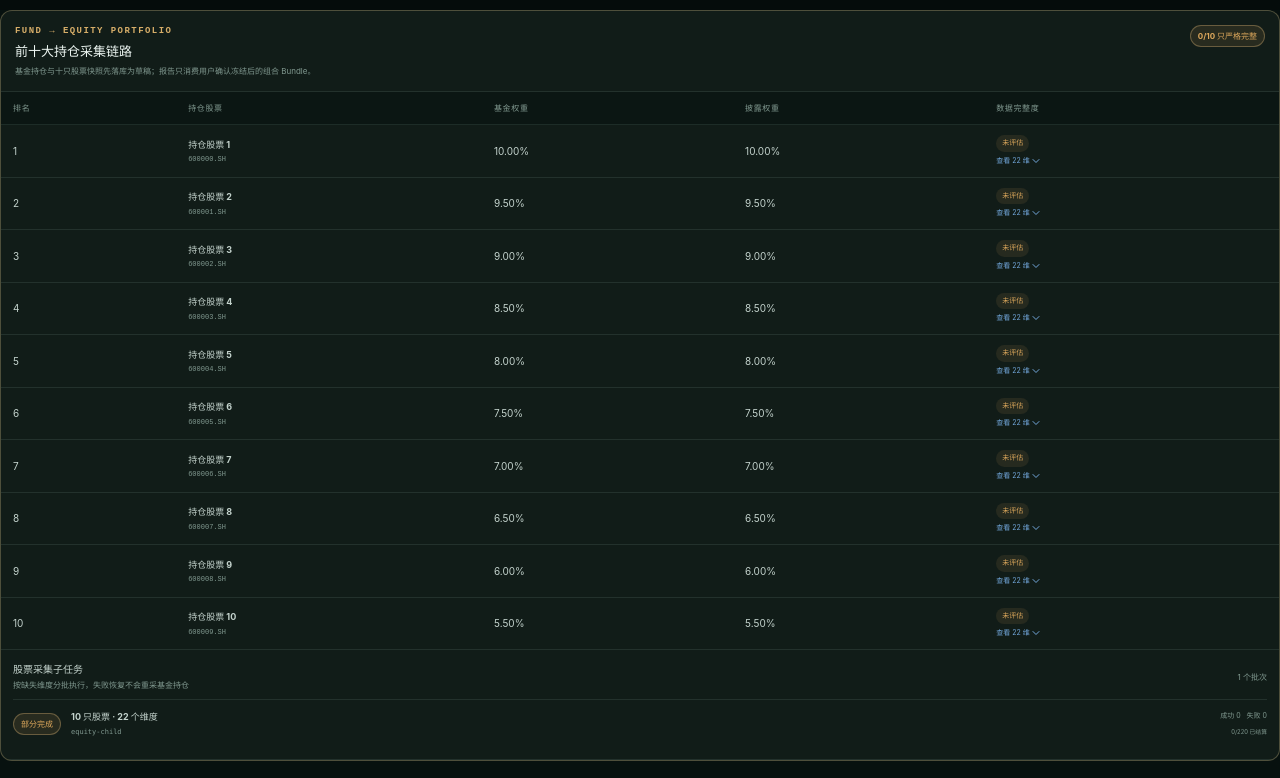
Test: FundCollectionOverview › does not treat a saved error response as usable UZI data
Click the button "查看 22 维" in the row of "600000.SH" at (1019, 161), box 996,155 -> 1042,167
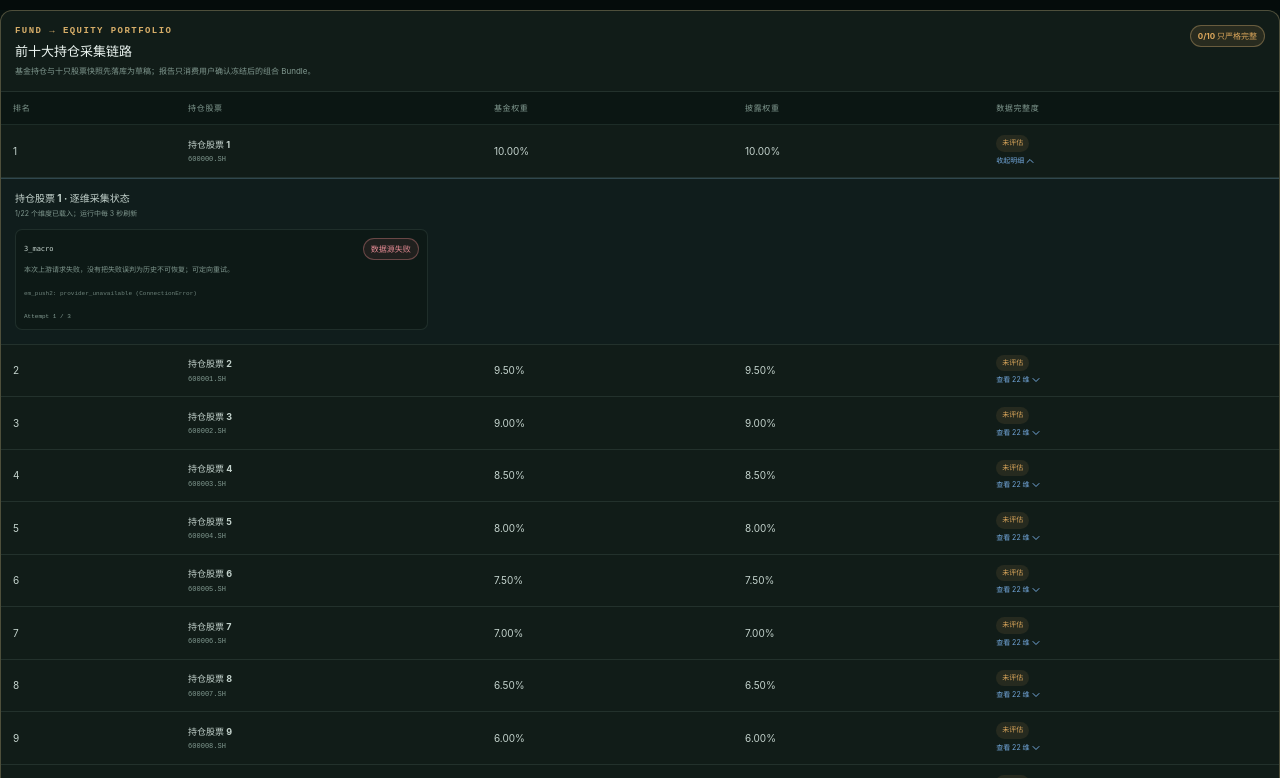
Now the text "本次上游请求失败，没有把失败误判为历史不可恢复；可定向重试。" is shown, box 24,265 -> 234,274
Now the text "em_push2: provider_unavailable (ConnectionError)" is shown, box 24,290 -> 197,297
